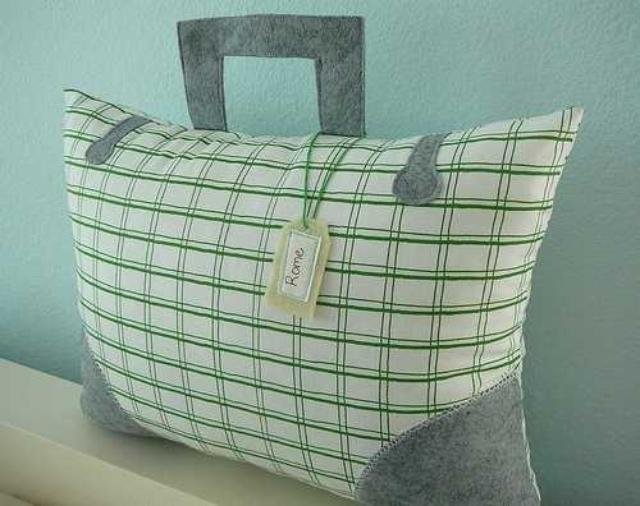pillow: (59, 84, 583, 503)
